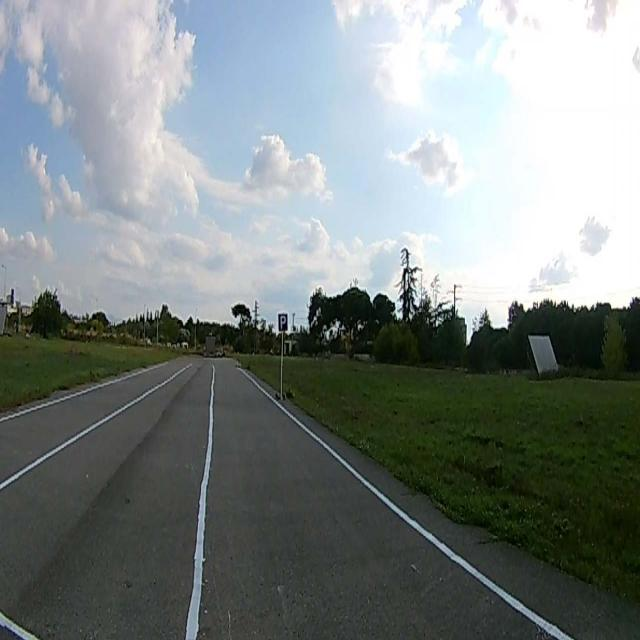park: (278, 312, 288, 332)
